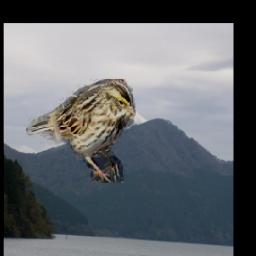Sparrow: (26, 79, 136, 183)
